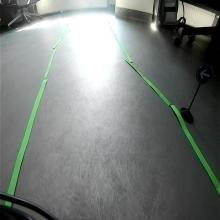left: (195, 62, 213, 86)
